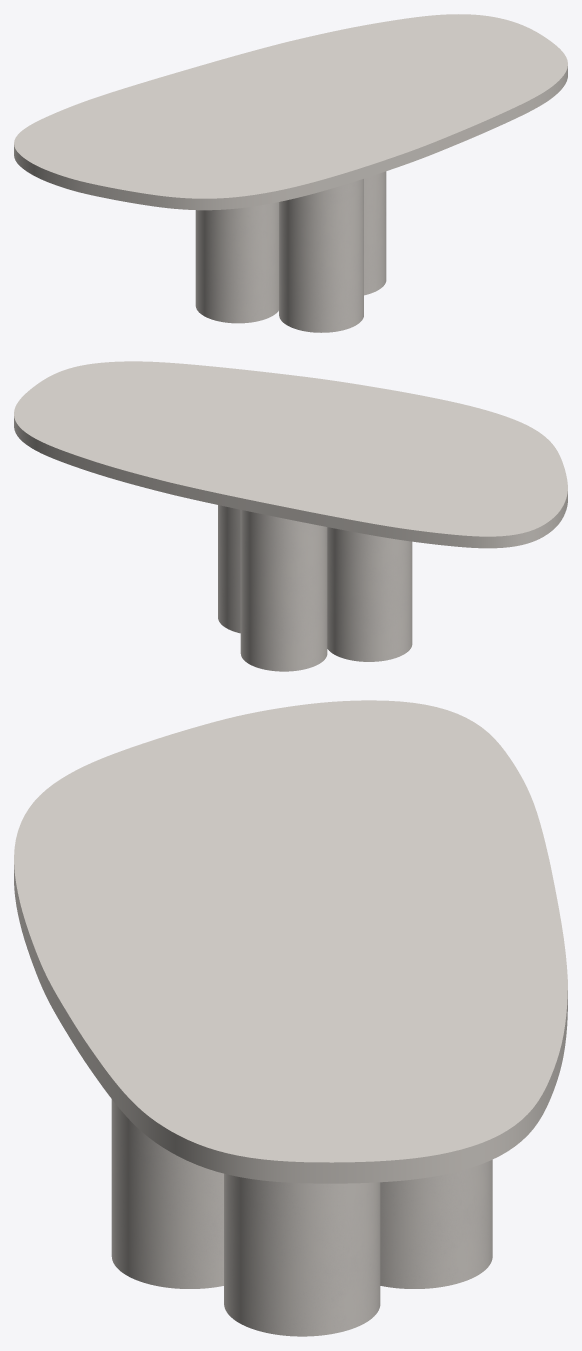
Rendered from pearlwhite_leaf2_standard_secondtable.glb.
3 views of the same model, one above another, from view 1: azimuth 30°, elevation 25°; view 2: azimuth 150°, elevation 25°; view 3: azimuth 270°, elevation 25° (orthographic). The views are drawn at different scales.
Visible parts, largest first — view 1: standard_leaf2, secondtable; view 2: standard_leaf2, secondtable; view 3: standard_leaf2, secondtable.
Boxes of the visible parts, bbox=[...] form: standard_leaf2: bbox=[14, 14, 567, 210]; secondtable: bbox=[195, 171, 386, 332]; standard_leaf2: bbox=[14, 361, 567, 548]; secondtable: bbox=[218, 505, 412, 671]; standard_leaf2: bbox=[14, 700, 567, 1183]; secondtable: bbox=[111, 1099, 492, 1336].
Bounding box in the file's own units: 7.5 × 2.52 × 3.8.
Materials: 1 (1 with a texture image).
